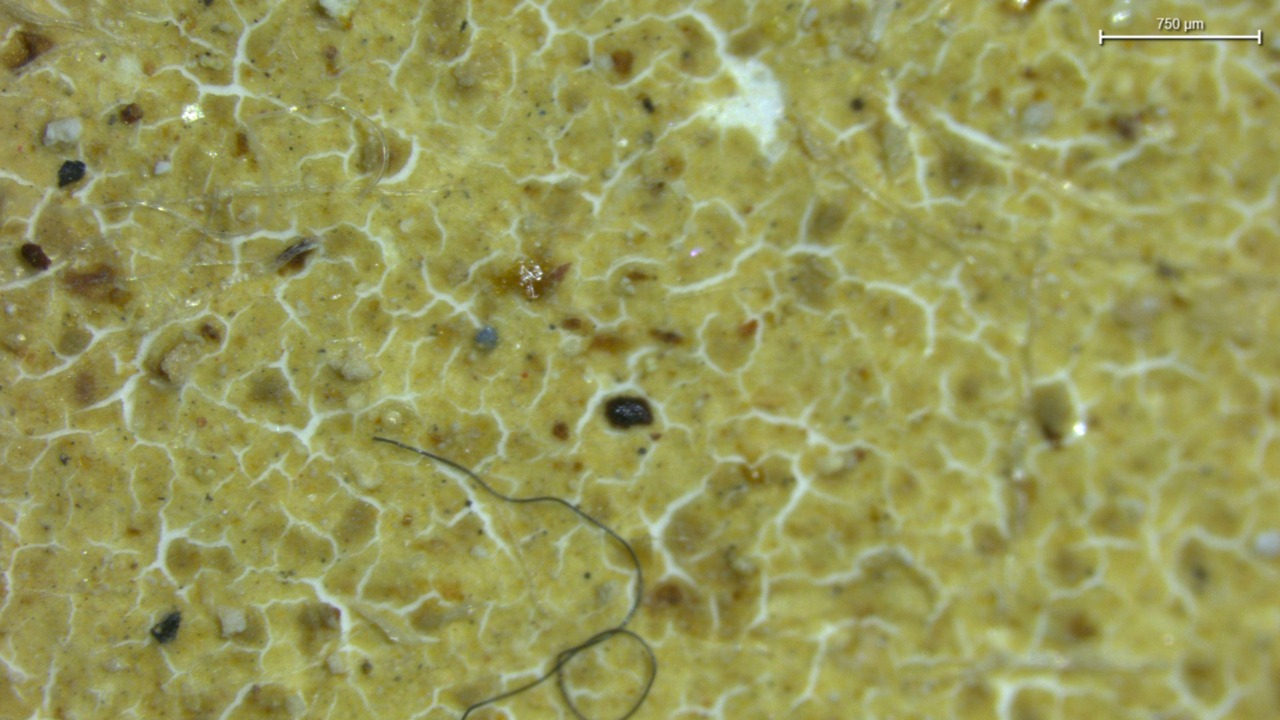microplastic_fragment: (160, 342, 203, 384), (43, 117, 82, 146), (217, 608, 246, 637)
